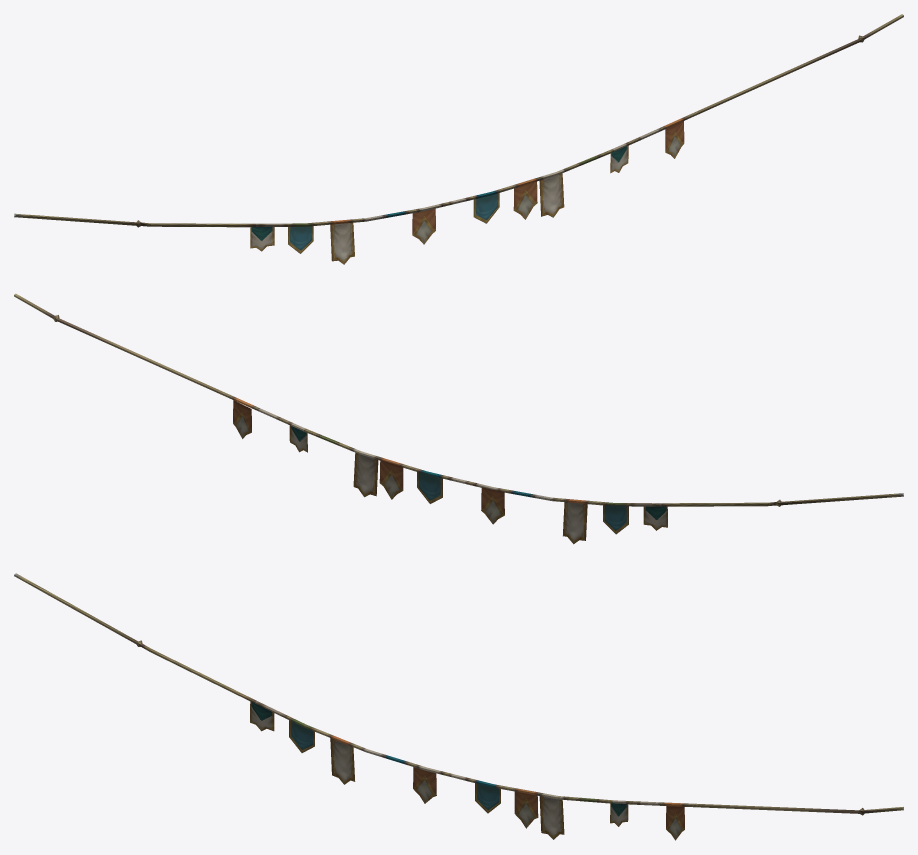
The model's file is Map_06_flag01.FBX.
The picture shows the model from 3 angles, top to bottom: view 1: azimuth 30°, elevation 25°; view 2: azimuth 150°, elevation 25°; view 3: azimuth 330°, elevation 25°; orthographic projection.
Visible parts, largest first — view 1: Map_06_flag01; view 2: Map_06_flag01; view 3: Map_06_flag01.
Boxes of the visible parts, box(x1,y1,x2,y2) form: Map_06_flag01: box(14, 14, 903, 264); Map_06_flag01: box(14, 293, 903, 544); Map_06_flag01: box(14, 573, 903, 840).
Bounding box in the file's own units: 3084 × 23.41 × 447.
